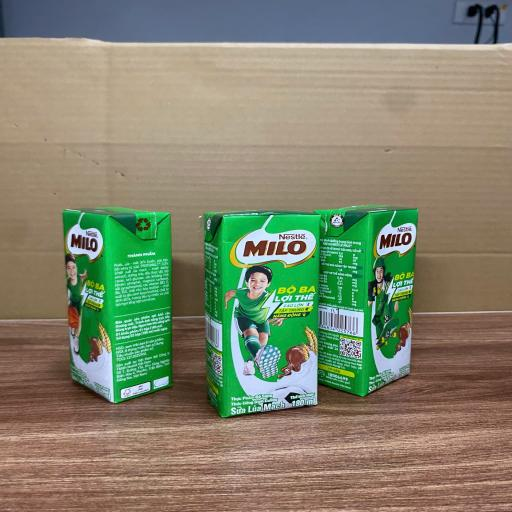milo: (204, 212, 319, 415), (59, 208, 175, 402), (319, 208, 417, 393)
